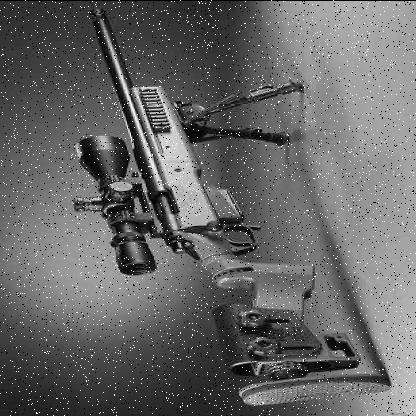rifle: (37, 13, 383, 402)
